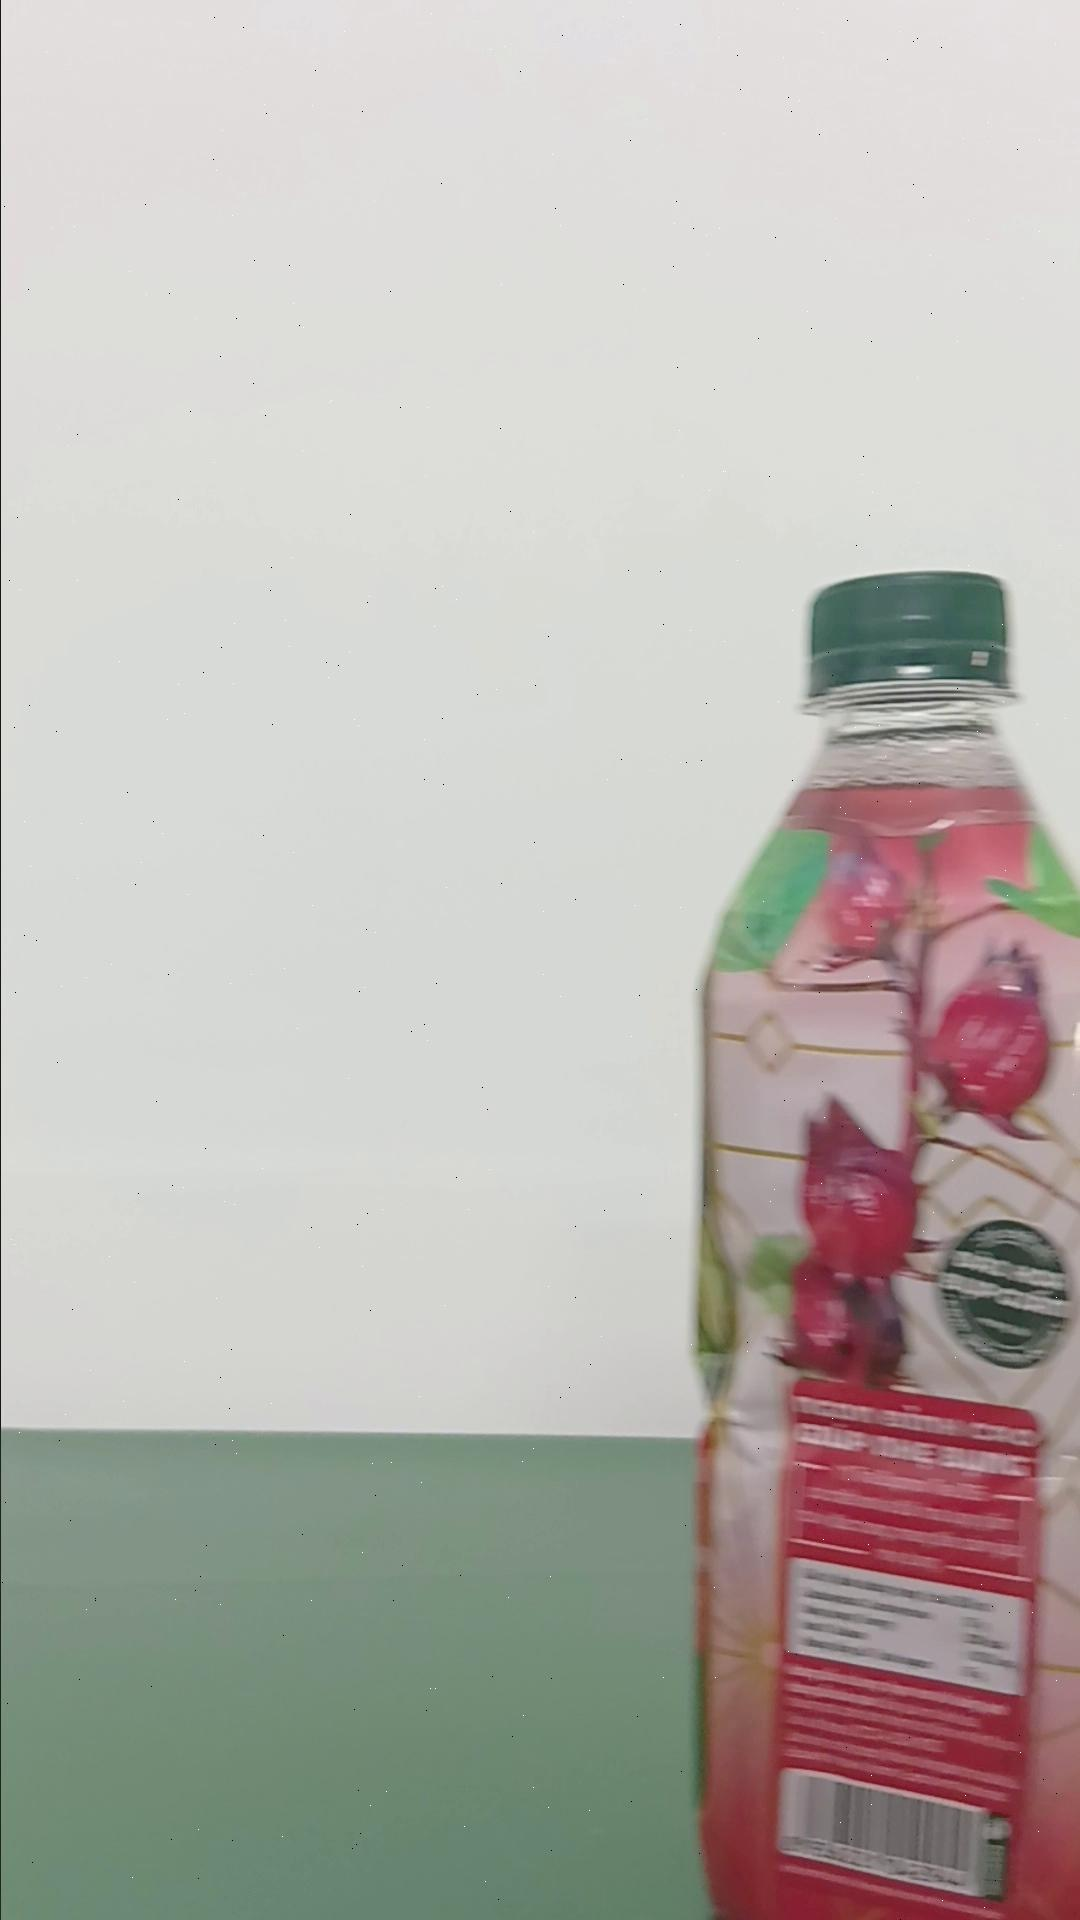loi meo sp: (687, 567, 1076, 1913)
